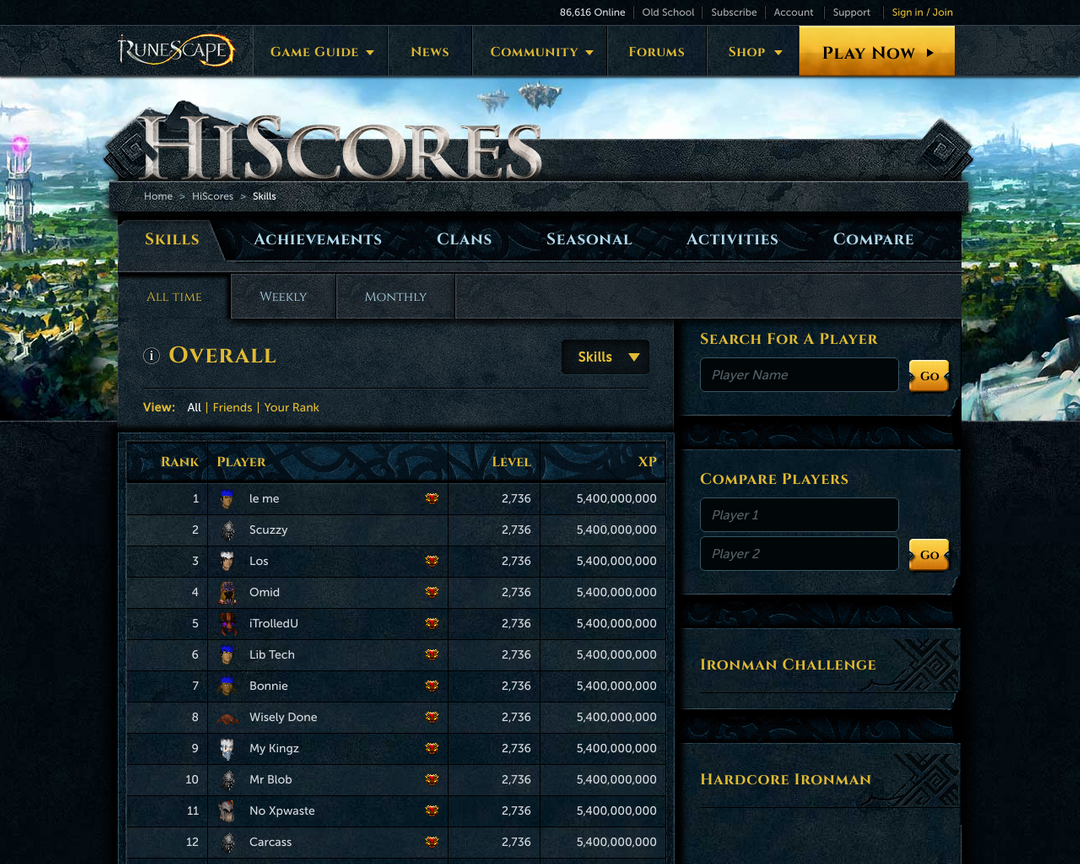Runescape: (111, 29, 240, 70)
